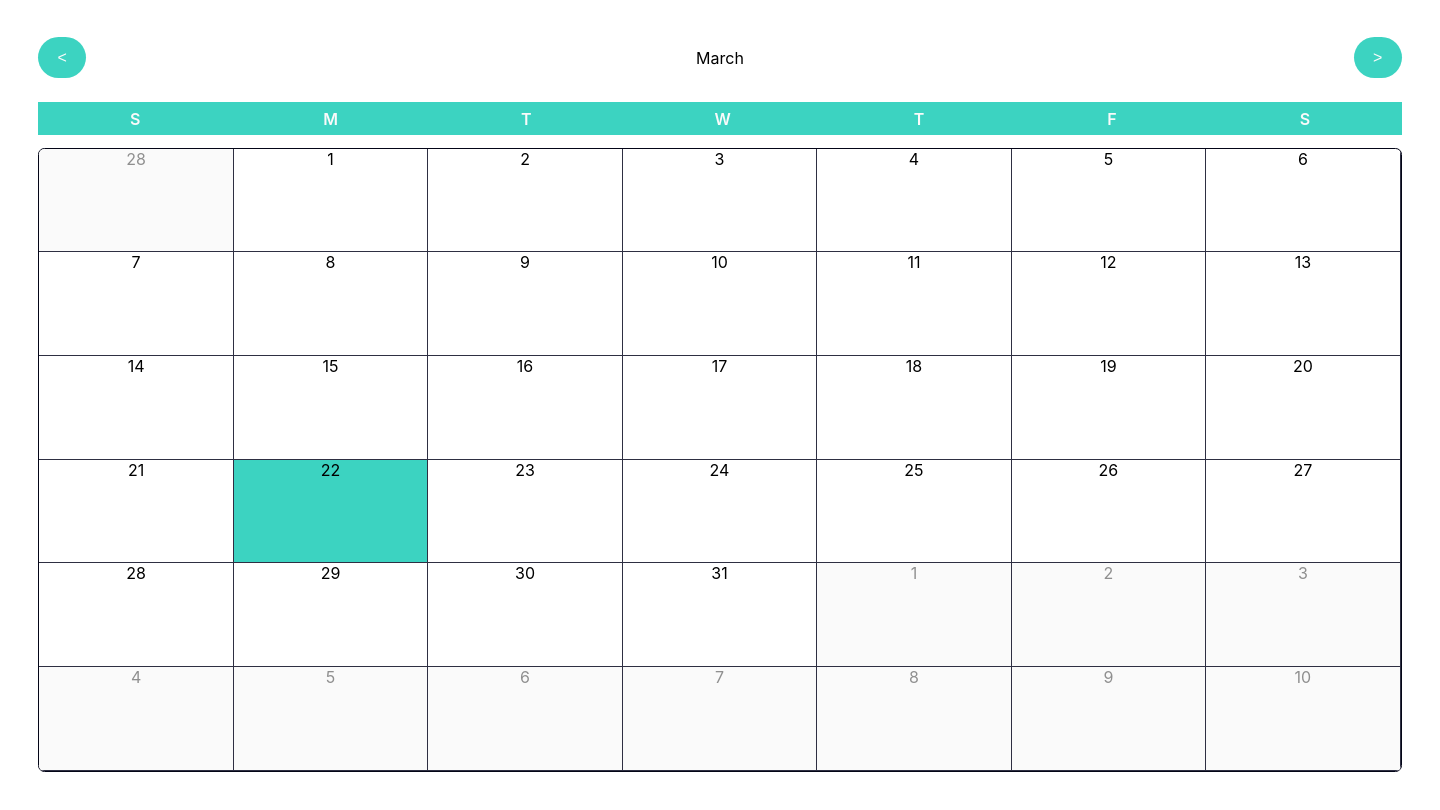
renders modal on day click
Click the element with test id "today-cell": [331, 512] box [234,460,428,563]
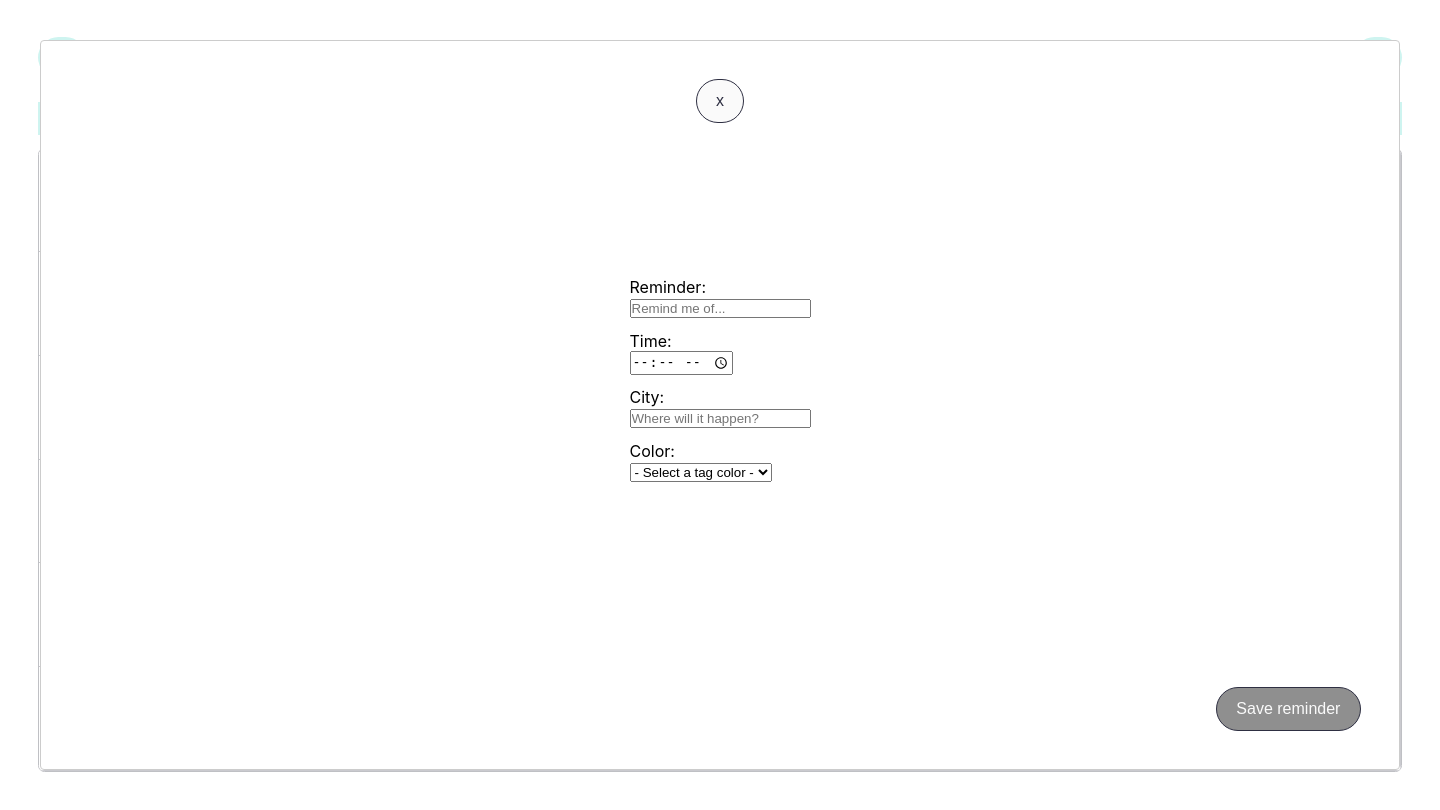
Expected: the field labelled "Reminder:" is shown, [630,299,810,318]
